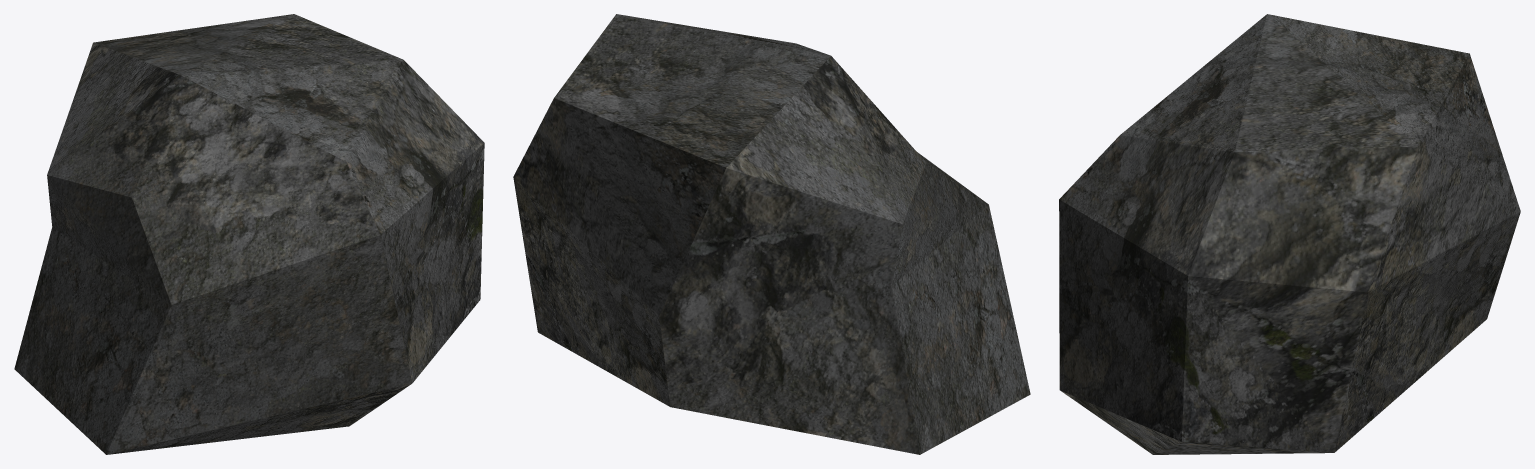
The model's file is Rock_7.fbx.
3 views of the same model, side by side, from view 1: azimuth 30°, elevation 25°; view 2: azimuth 150°, elevation 25°; view 3: azimuth 270°, elevation 25° (orthographic). The views are drawn at different scales.
Visible parts, largest first — view 1: Rock_7; view 2: Rock_7; view 3: Rock_7.
Part boxes in pixels (bbox=[...]): Rock_7: bbox=[14, 14, 484, 454]; Rock_7: bbox=[513, 14, 1030, 454]; Rock_7: bbox=[1059, 14, 1520, 454].
Bounding box in the file's own units: 67.45 × 55.8 × 61.73.
